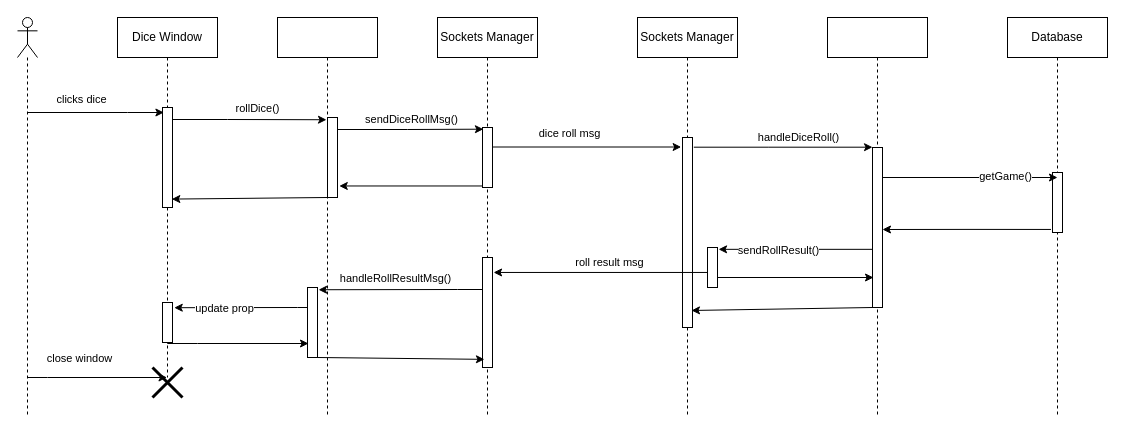
Image size: 1125x435. Some labels were removed from this diagram. The shapes that lost their labels are listed below. From the top down, each one's box as (x1, y1, x2, y2) in pixels, then its label:
(276, 16, 378, 418): Dice Container
(826, 16, 928, 418): Game Service
